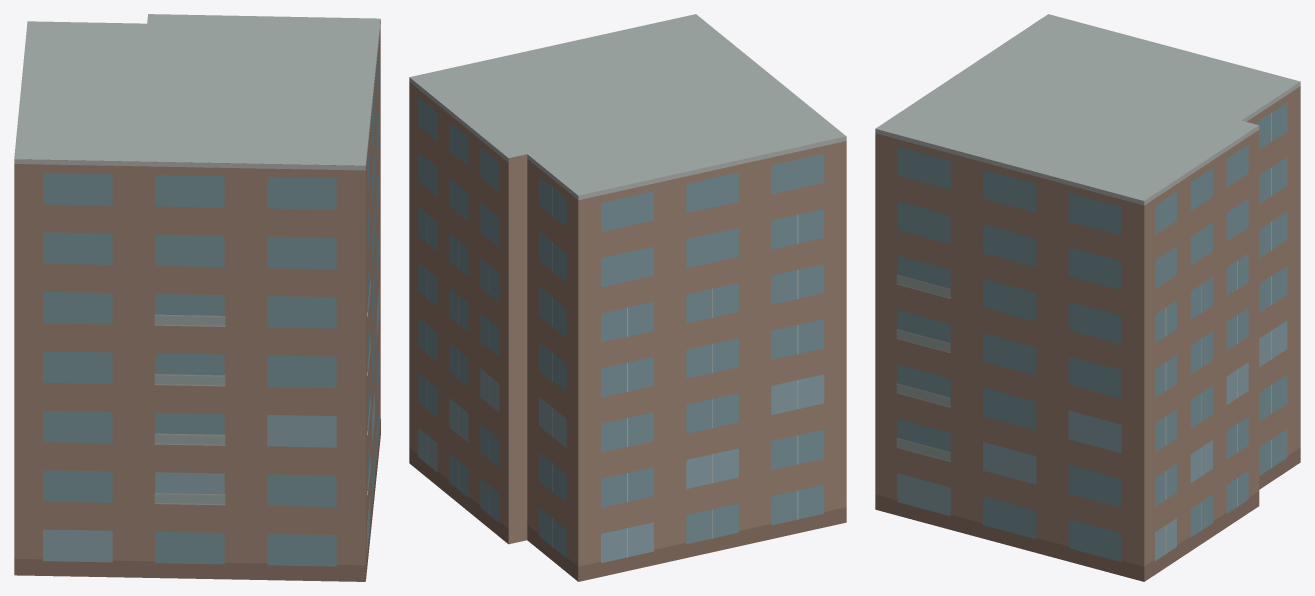
File: survey-upis-32853428.glb
3 renders of one model, left to right at view 1: azimuth 30°, elevation 25°; view 2: azimuth 150°, elevation 25°; view 3: azimuth 270°, elevation 25°, orthographic. The views are drawn at different scales.
Visible parts, largest first — view 1: survey-upis-32853428.tmp; view 2: survey-upis-32853428.tmp; view 3: survey-upis-32853428.tmp.
Part boxes in pixels (x1=…): survey-upis-32853428.tmp: x1=14, y1=14, x2=380, y2=581; survey-upis-32853428.tmp: x1=409, y1=14, x2=846, y2=581; survey-upis-32853428.tmp: x1=875, y1=14, x2=1300, y2=581.
Bounding box in the file's own units: 22.13 × 21 × 21.27.
